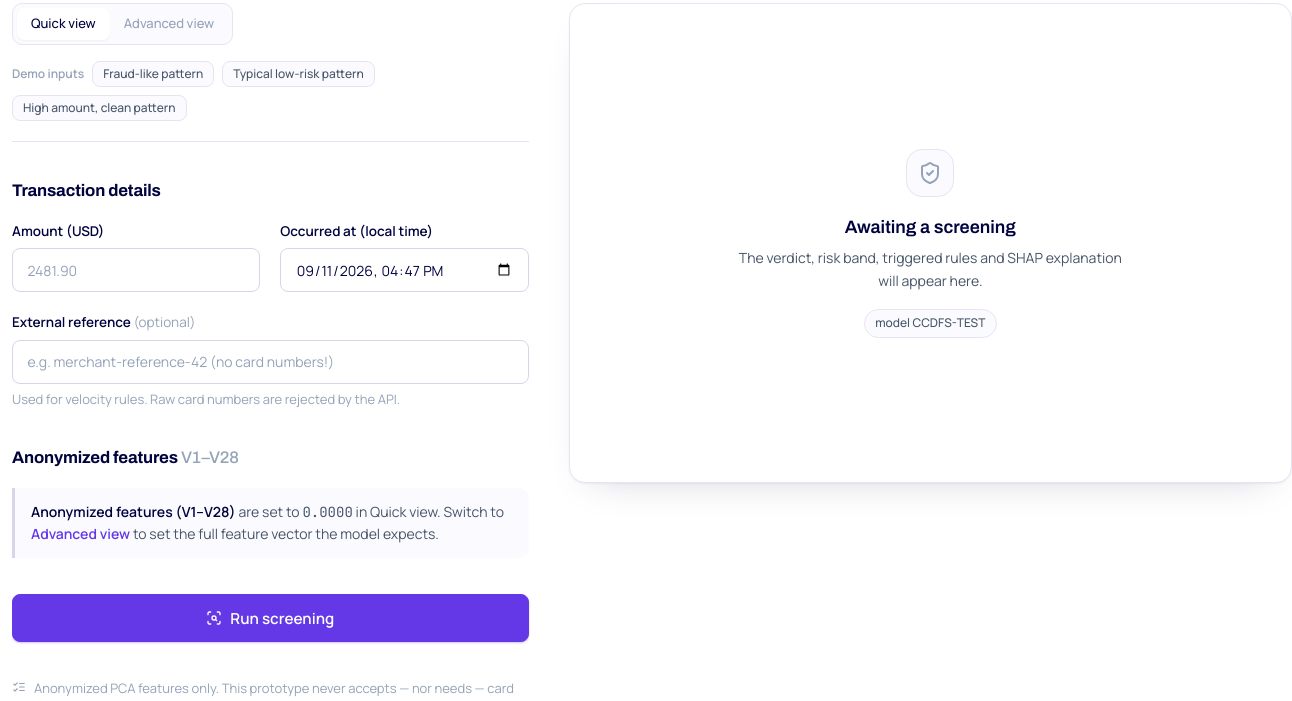
Test case: Screening page › blocks submission when required fields are missing
(page scrolled)
Click the button "Run screening": {"x": 270, "y": 618} [12, 594, 529, 642]
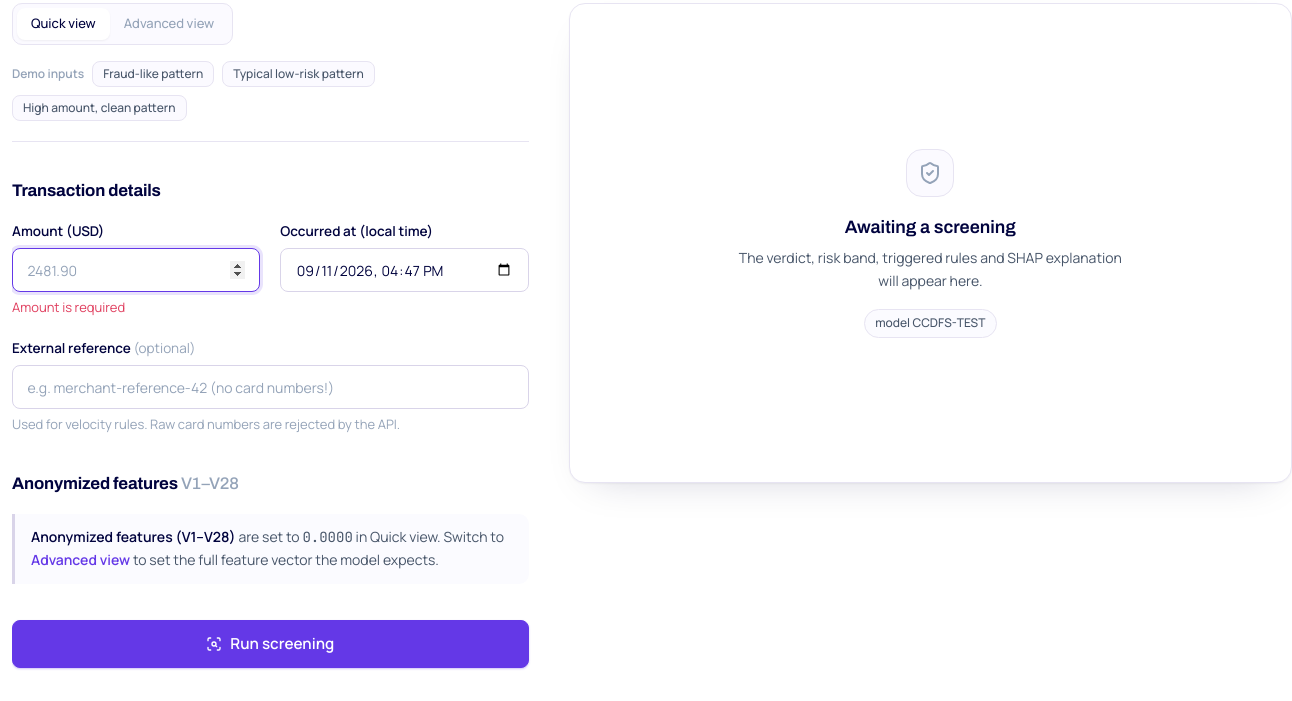
Check: the text "Amount is required" is shown, box [12, 298, 125, 316]
